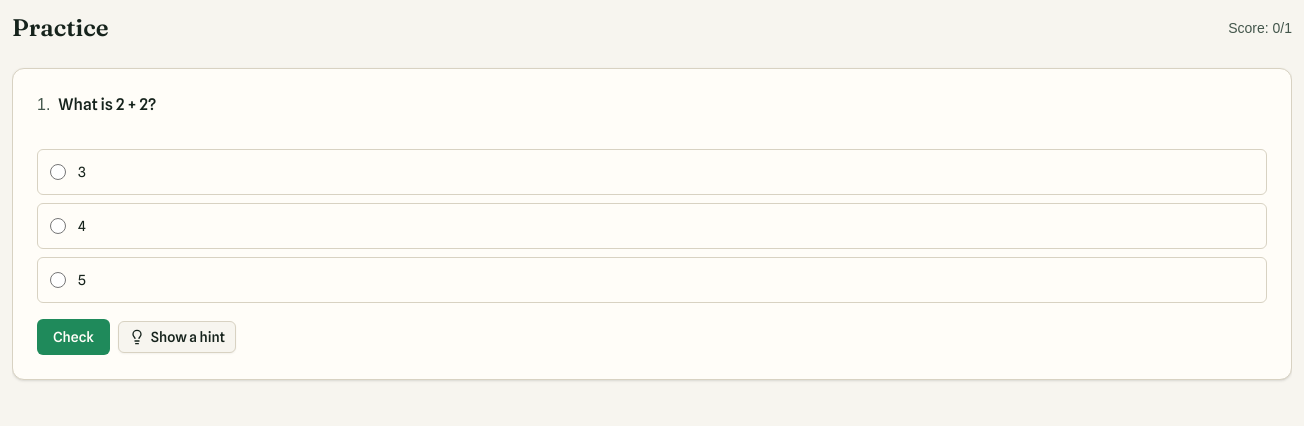
Test case: PracticeSet › marks an incorrect MC answer as incorrect
Click the radio button labelled "3": (58, 172) [50,164,66,180]
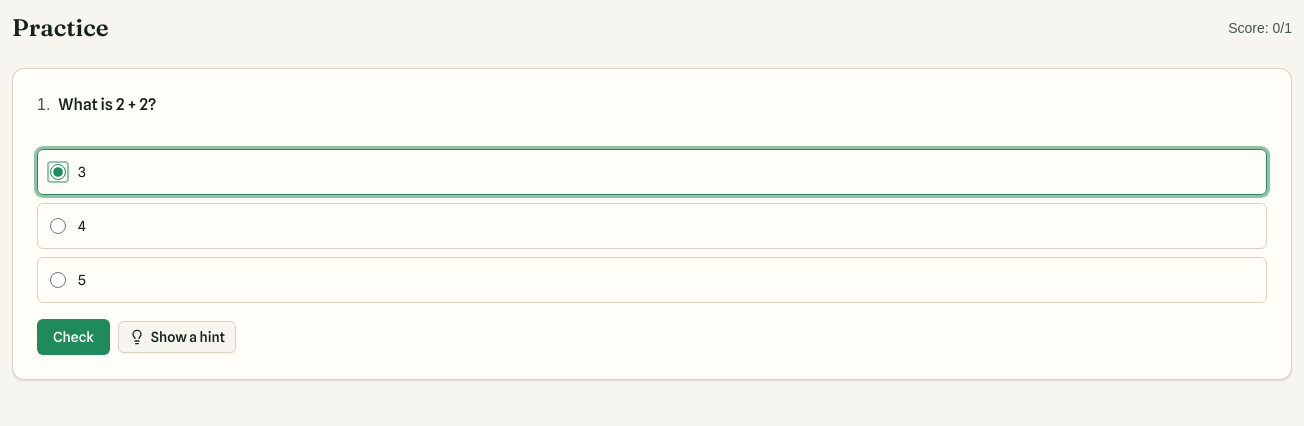
Click the button "Check": (73, 337) [37,319,110,355]
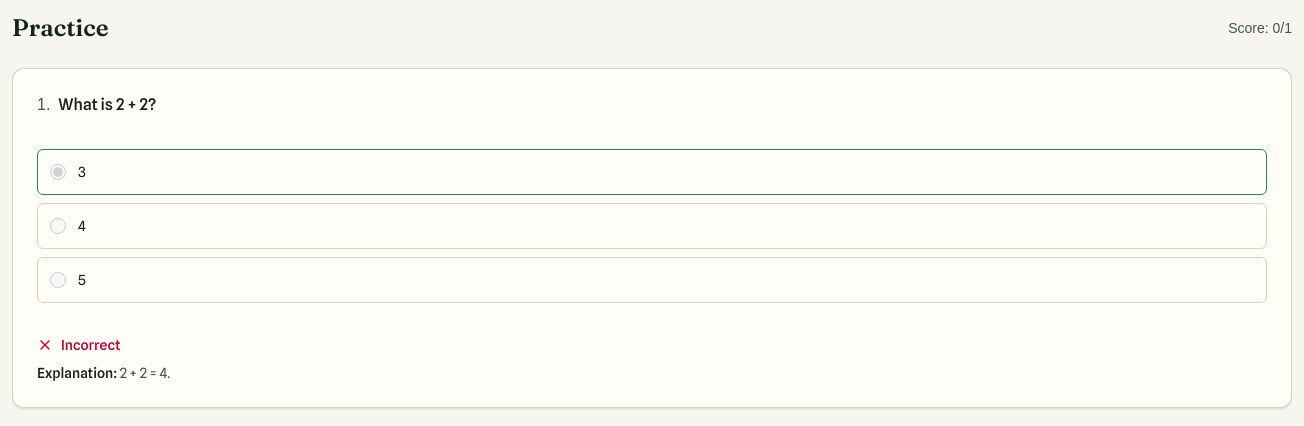
Expected: the text with test id "practice-score" reads "Score: 0/1", [1228,18,1292,38]
Now the text "Incorrect" is shown, box [61,335,120,355]
